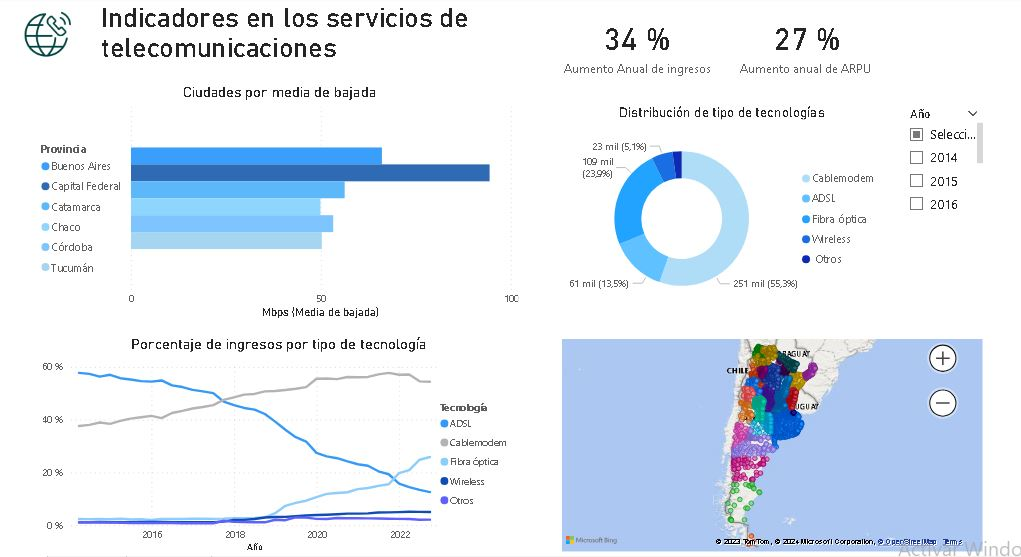

The dashboard page shown, as its layout file describes it:
{"tool":"powerbi","page":{"name":"Dashboard","canvas":[1280,720],"ordinal":0},"visuals":[{"type":"lineChart","title":"Porcentaje de ingresos por tipo de tecnología","fields":{"Y":["Avg(Ingreso Operadores & Tipo tecnologia.IngresosADSL)","Avg(Ingreso Operadores & Tipo tecnologia.IngresosCablemodem)","Avg(Ingreso Operadores & Tipo tecnologia.IngresosFibra óptica)","Avg(Ingreso Operadores & Tipo tecnologia.IngresosWireless)","Avg(Ingreso Operadores & Tipo tecnologia.IngresosOtros)"],"Category":["Ingreso Operadores & Tipo tecnologia.Fecha.Variación.Jerarquía de fechas.Año","Ingreso Operadores & Tipo tecnologia.Fecha.Variación.Jerarquía de fechas.Trimestre","Ingreso Operadores & Tipo tecnologia.Fecha.Variación.Jerarquía de fechas.Mes","Ingreso Operadores & Tipo tecnologia.Fecha.Variación.Jerarquía de fechas.Día"]},"box":[49.5,432.8,599.8,275.8],"z":0},{"type":"donutChart","title":"Distribución de tipo de tecnologías","fields":{"Y":["Sum(Tabla Accesos.Tecnologia Cablemodem)","Sum(Tabla Accesos.Tecnologia ADSL)","Sum(Tabla Accesos.Tecnologia Fibra óptica)","Sum(Tabla Accesos.Tecnologia Wireless)","Sum(Tabla Accesos.Tecnologia Otros)"]},"box":[698.8,144.3,410.2,267.3],"z":1000},{"type":"card","fields":{"Values":["Ingreso Operadores & Tipo tecnologia.Aumento Anual"]},"box":[698.8,21.2,198,96.2],"z":2000},{"type":"clusteredBarChart","title":"Ciudades por media de bajada","fields":{"Y":["Avg(Tabla Accesos.Mbps (Media de bajada))"],"Series":["Tabla Accesos.Provincia"]},"box":[49.5,116,599.8,295.6],"z":3000},{"type":"map","fields":{"X":["Map_tecnologias.Longitud"],"Y":["Map_tecnologias.Latitud"],"Series":["Map_tecnologias.Provincia"]},"box":[698.8,432.8,536.1,275.8],"z":4000},{"type":"slicer","fields":{"Values":["Tabla Accesos.Fecha.Variación.Jerarquía de fechas.Año"]},"box":[1125.7,144.3,109.5,150.7],"z":5000},{"type":"card","fields":{"Values":["Ingreso Operadores & Tipo tecnologia.ARPU Anual"]},"box":[911,21.2,198,96.2],"z":6000},{"type":"image","box":[0,0,123.1,117.4],"z":7000},{"type":"textbox","box":[123.1,11.3,526.2,94.8],"z":8000}]}

Visuals, with their boxes on the page's 1280x720 design canvas (x1, y1, x2, y2). These are canvas units, not pixel positions in the 1021x557 screenshot, which may show the page scaled, cropped or inside an application window:
"Porcentaje de ingresos por tipo de tecnología" lineChart: x1=50 y1=433 x2=649 y2=709
"Distribución de tipo de tecnologías" donutChart: x1=699 y1=144 x2=1109 y2=412
card - Ingreso Operadores & Tipo tecnologia.Aumento Anual: x1=699 y1=21 x2=897 y2=117
"Ciudades por media de bajada" clusteredBarChart: x1=50 y1=116 x2=649 y2=412
map - Map_tecnologias.Longitud x Map_tecnologias.Latitud: x1=699 y1=433 x2=1235 y2=709
slicer - Tabla Accesos.Fecha.Variación.Jerarquía de fechas.Año: x1=1126 y1=144 x2=1235 y2=295
card - Ingreso Operadores & Tipo tecnologia.ARPU Anual: x1=911 y1=21 x2=1109 y2=117
image: x1=0 y1=0 x2=123 y2=117
textbox: x1=123 y1=11 x2=649 y2=106
